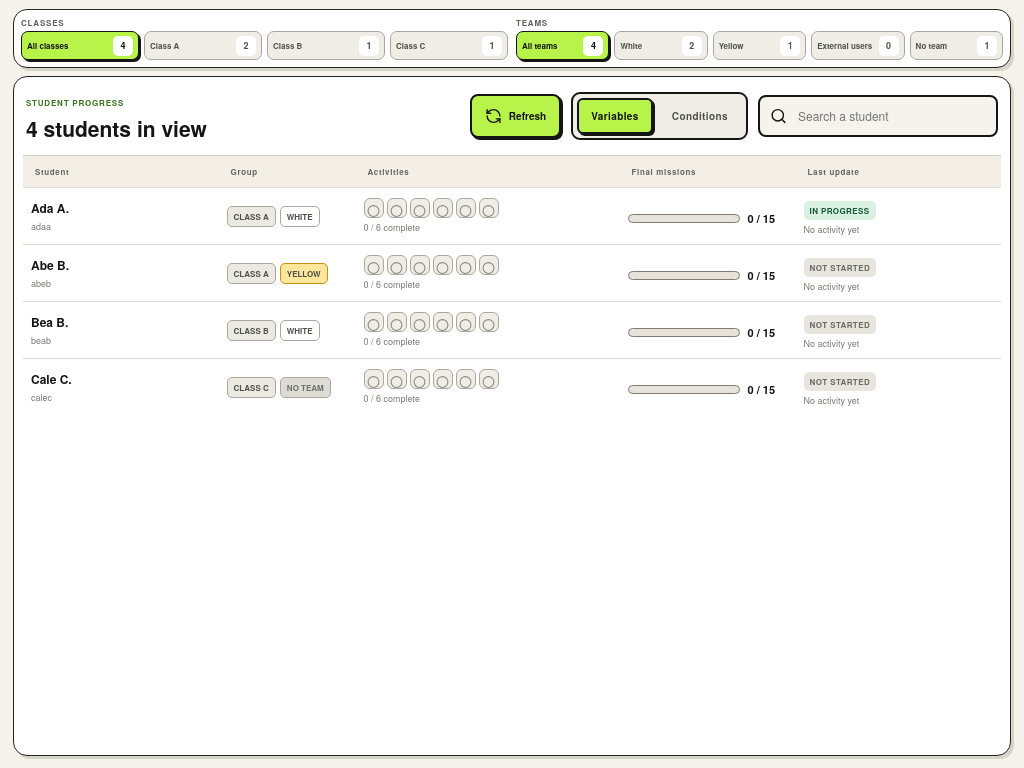
TeacherDashboard › switches the dashboard between the Variables and Conditions worlds
expect the heading "4 students in view" is shown: met, box [26, 113, 207, 143]
expect the column heading "Final missions" is shown: met, box [620, 156, 796, 188]
Click the button "Conditions" at [700, 116], box [658, 98, 742, 134]
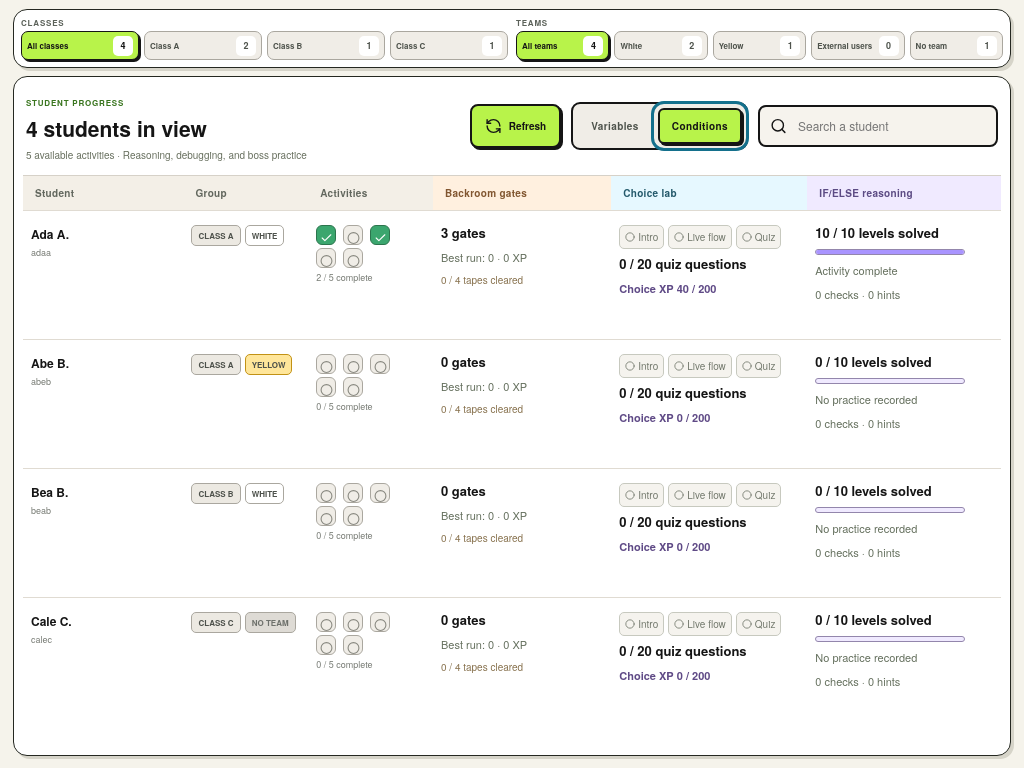
expect the column heading "Backroom gates" is shown: met, box [433, 176, 611, 210]
expect the element named "2 of 5 activities complete" is shown: met, box [316, 225, 390, 268]
expect the column heading "Choice lab" is shown: met, box [611, 176, 807, 210]
